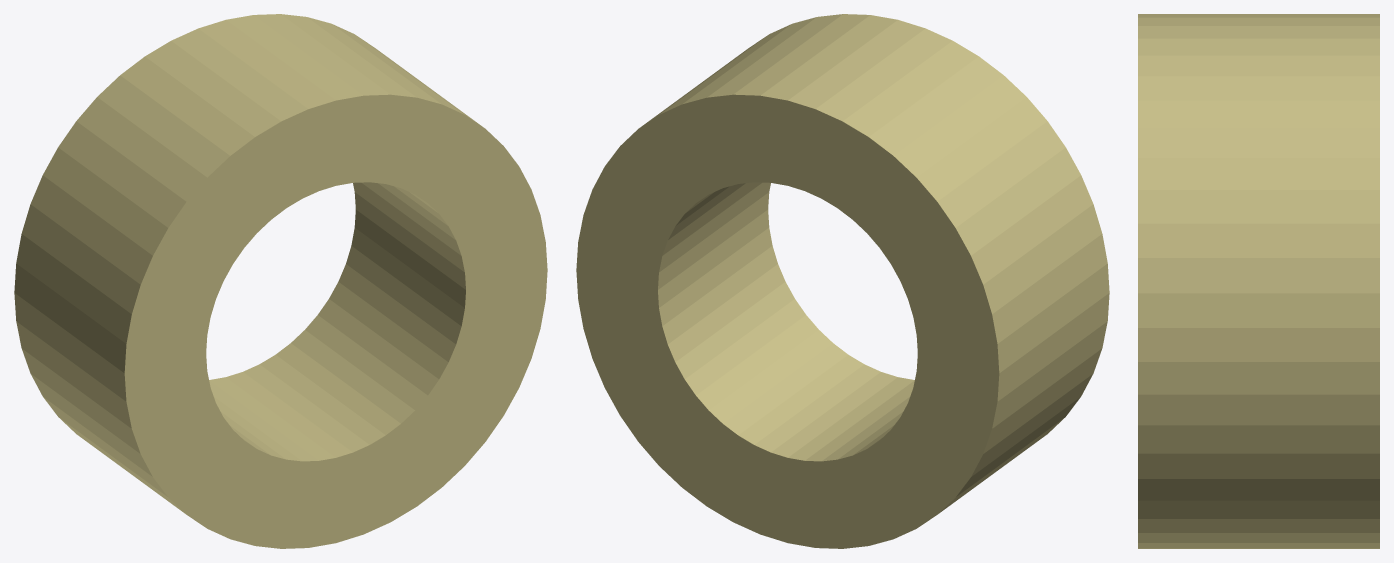
3 renders of one model, left to right at view 1: azimuth 30°, elevation 25°; view 2: azimuth 150°, elevation 25°; view 3: azimuth 270°, elevation 25°, orthographic. The views are drawn at different scales.
Parts seen in each view (by area): view 1: geometry_0; view 2: geometry_0; view 3: geometry_0.
Boxes of the visible parts, x1,y1,x2,y2 form: geometry_0: (14, 14, 547, 548); geometry_0: (576, 14, 1109, 548); geometry_0: (1138, 14, 1379, 548).
Size of the model in its own units: 62 by 62 by 28.
